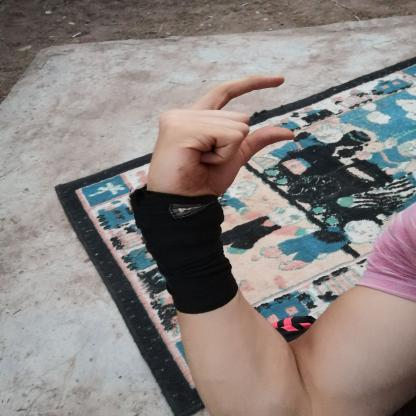DELL: (128, 63, 310, 208)
